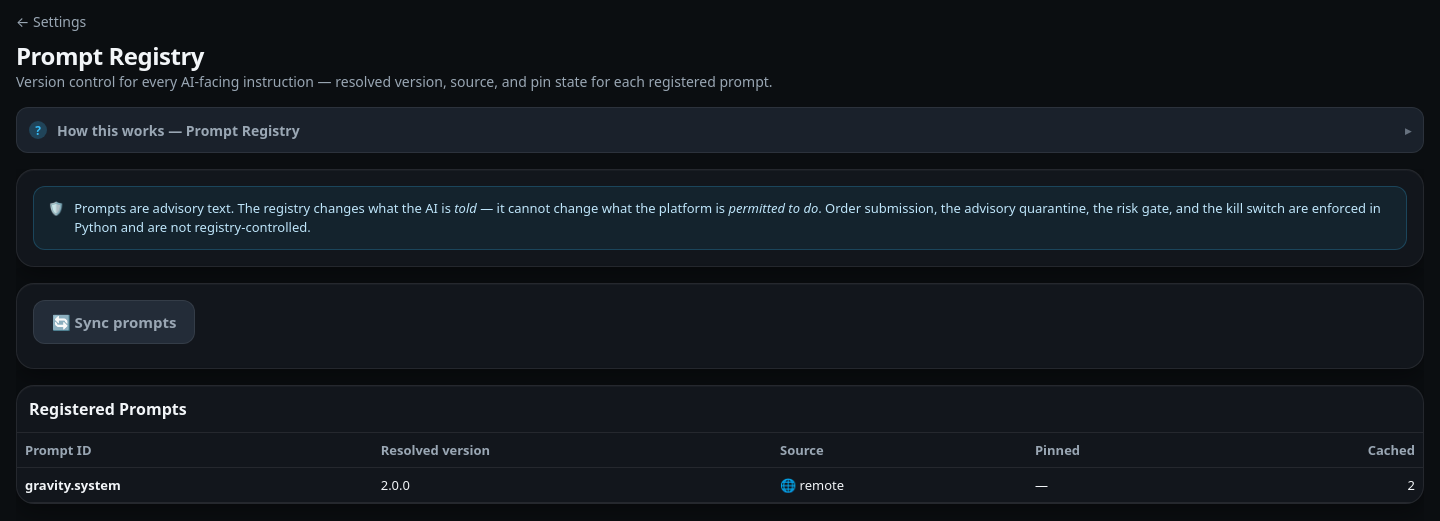
Test: PromptRegistry screen › Sync prompts creates a command job, polls to success, and reloads the list
Click the button with test id "prompt-sync-now".
click(114, 322)  # box [33,300,195,344]
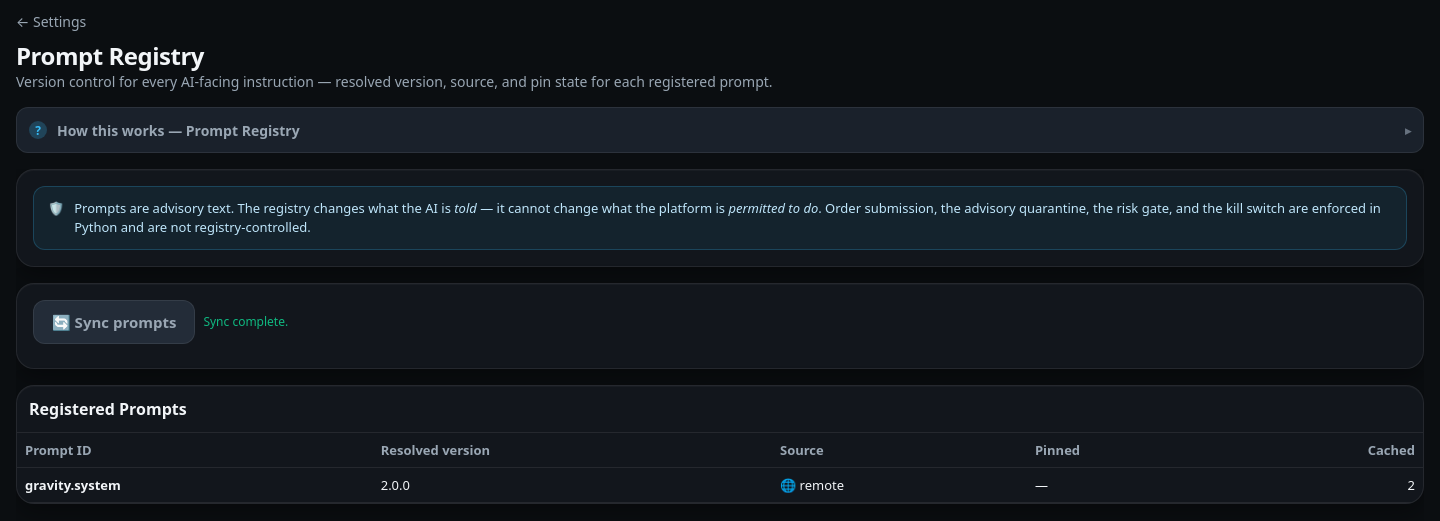
Now the text with test id "prompt-sync-message" reads "Sync complete.", box [203,313,288,330]
